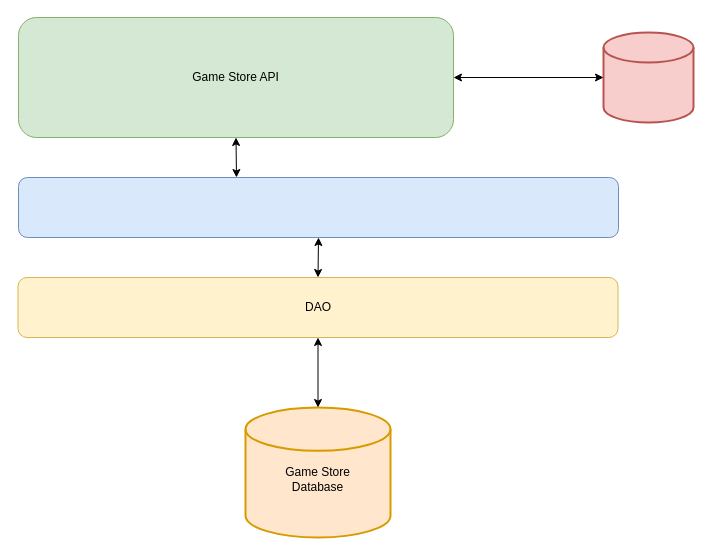
Image size: 711x556. Some labels were removed from this diagram. Each missing label, with the centre of its shape:
Security Database: [648,77]
Service Layer: [318,207]
